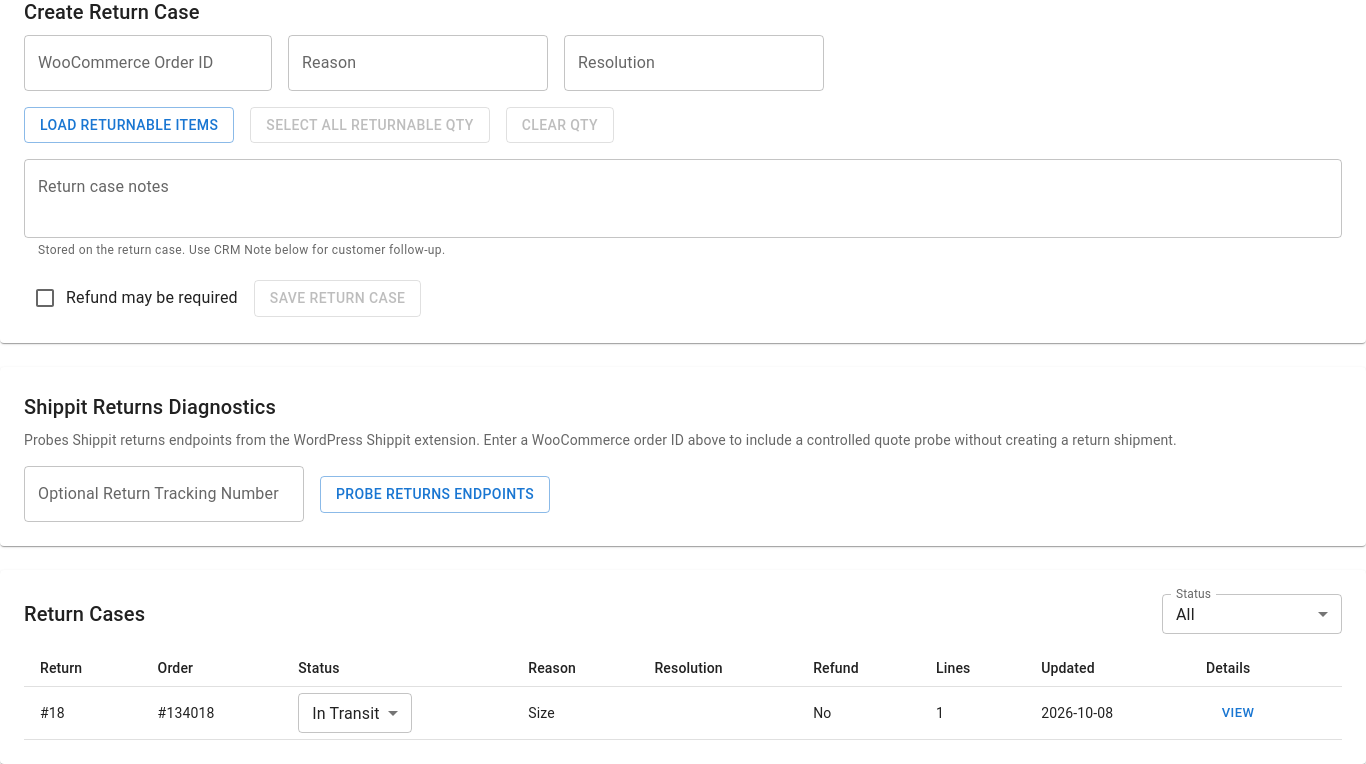
it: ReturnsPage Shippit workflow › keeps document and print actions on a booked return and does not offer accept again
The width and height of the screenshot is (1366, 764).
(page scrolled)
Expected: the text "#18" is shown, [24,687,142,740]
Click the button "View": [1238, 713] box [1206,698,1270,729]
(page scrolled)
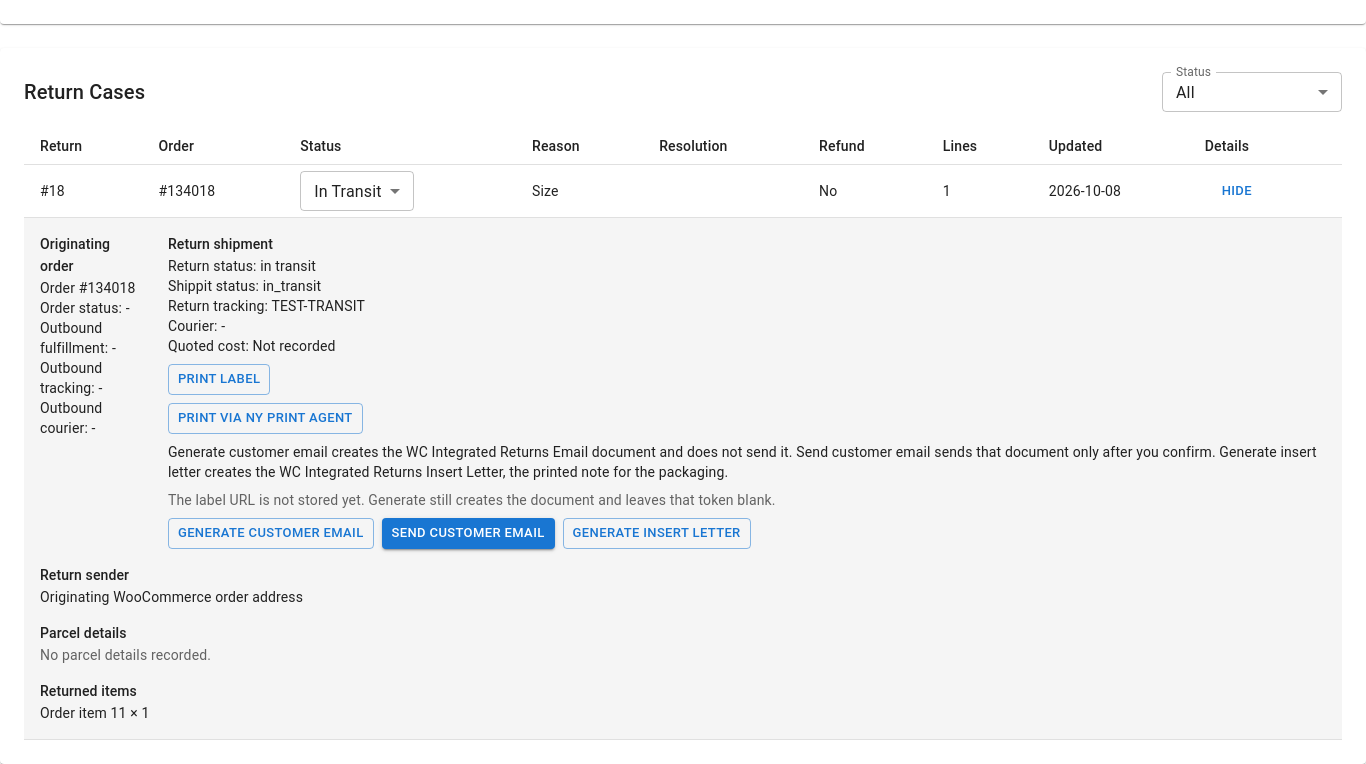
Result: the button "Print label" is enabled at [168,364,270,395]
Result: the button "Print via NY Print Agent" is enabled at [168,403,363,434]
Result: the button "Generate customer email" is enabled at [168,518,374,549]
